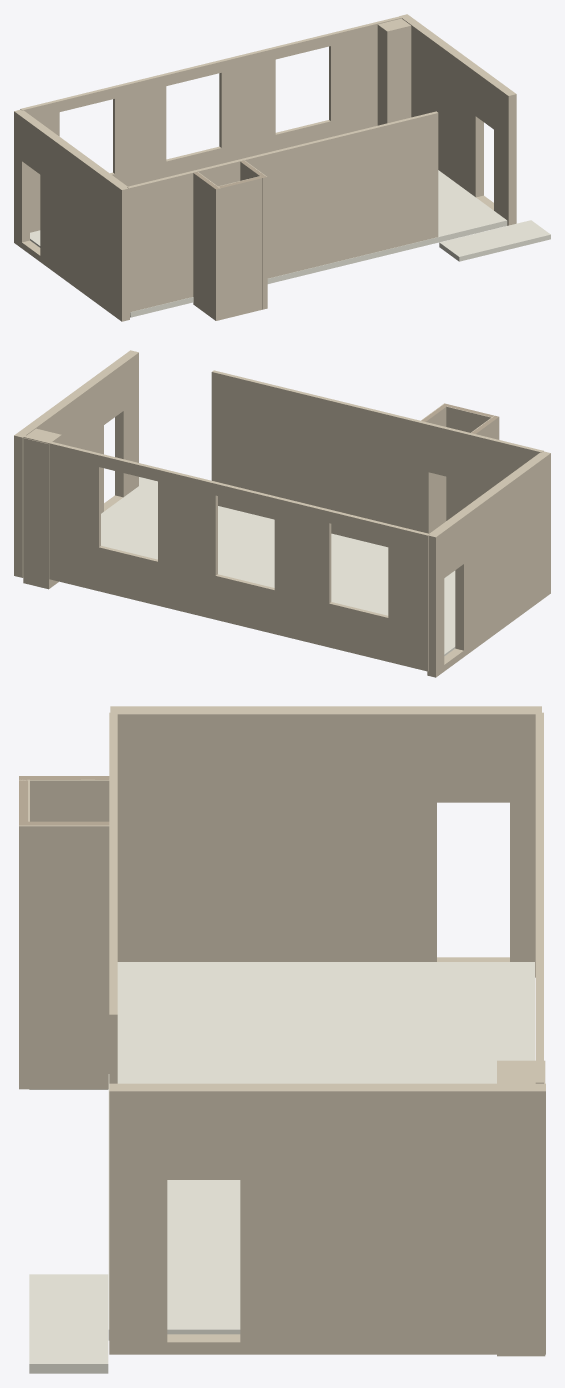
The model's file is potto kitchen.fbx.
3 renders of one model, top to bottom at view 1: azimuth 30°, elevation 25°; view 2: azimuth 150°, elevation 25°; view 3: azimuth 270°, elevation 25°, orthographic. The views are drawn at different scales.
Parts seen in each view (by area): view 1: Cube; view 2: Cube; view 3: Cube.
Part boxes in pixels (x1=…): Cube: x1=14, y1=14, x2=550, y2=321; Cube: x1=14, y1=350, x2=550, y2=677; Cube: x1=19, y1=706, x2=545, y2=1373.
Size of the model in its own units: 1107 by 354 by 618.
